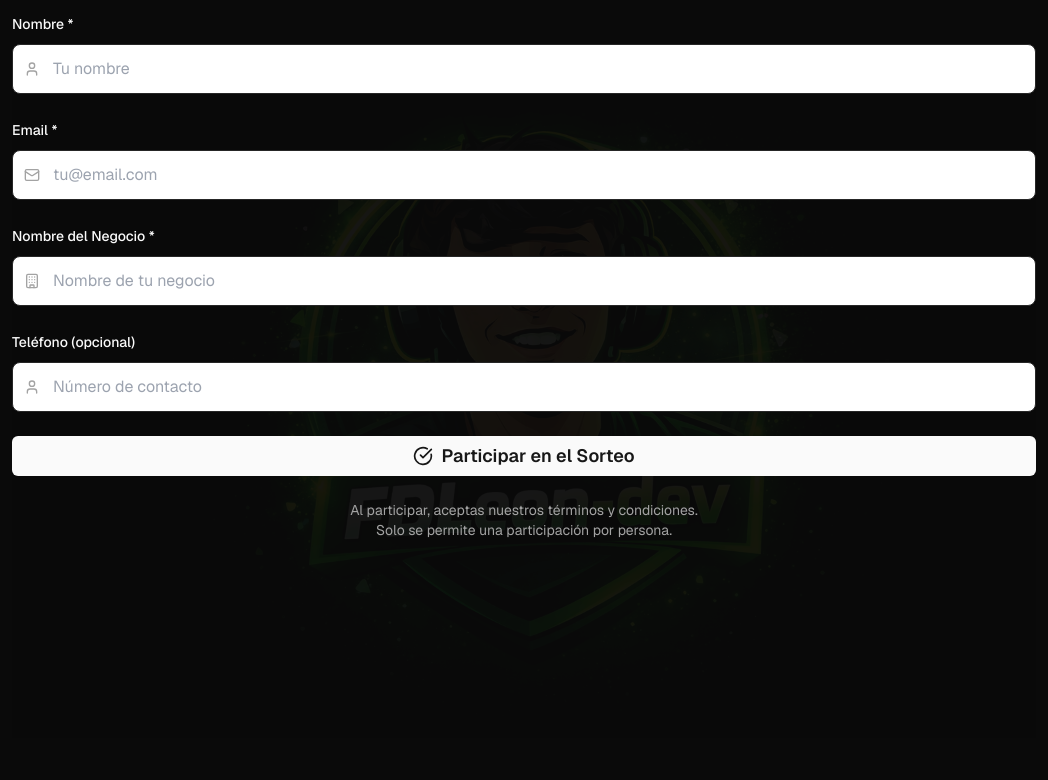
Test: SorteoForm › validates required fields
This screenshot has width=1048, height=780.
Click the button "Participar en el Sorteo" at (524, 456), box [12,436,1036,476]
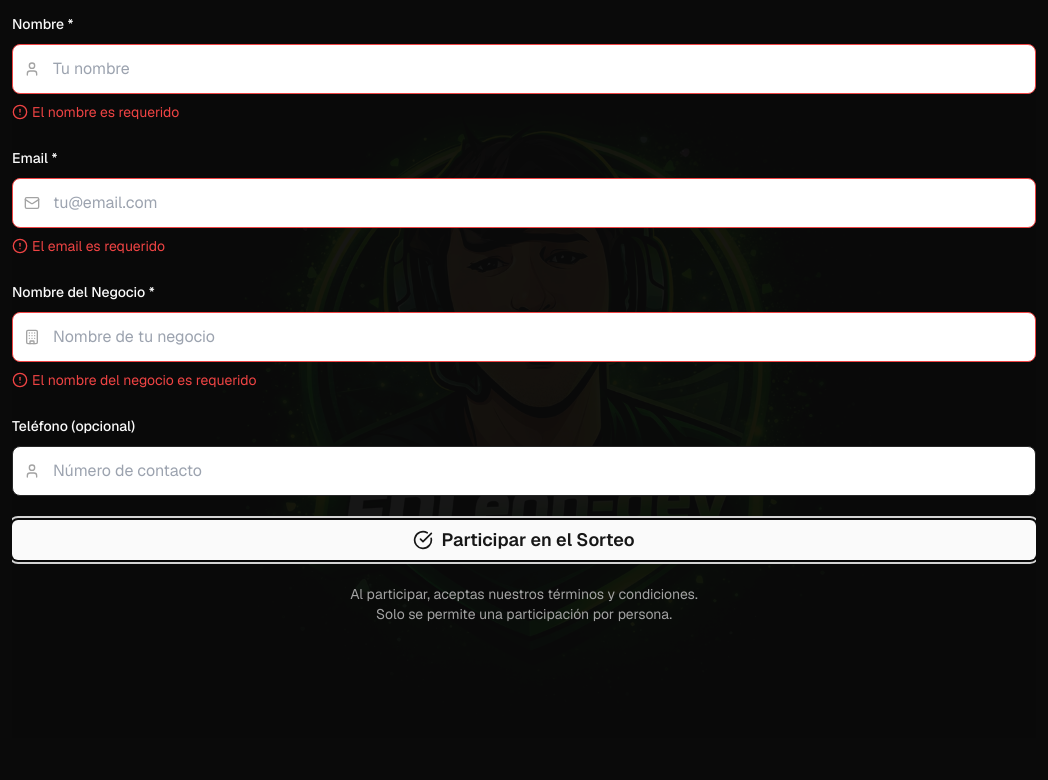
Expected: the text "El nombre es requerido" is shown, [12,103,179,121]
Expected: the text "El email es requerido" is shown, [12,237,165,255]
Expected: the text "El nombre del negocio es requerido" is shown, [12,371,256,389]
